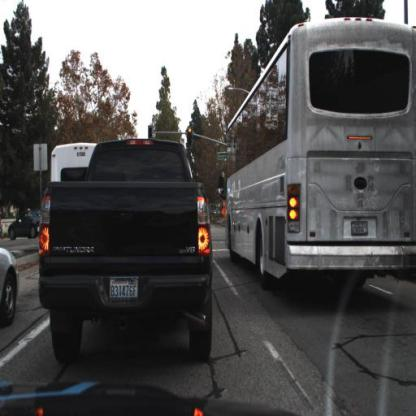car: (44, 141, 210, 352), (1, 240, 18, 332)
trafficLight: (149, 124, 154, 141), (188, 128, 193, 145)
trafficLight-Red: (187, 126, 194, 145)
truck: (225, 20, 416, 293)
